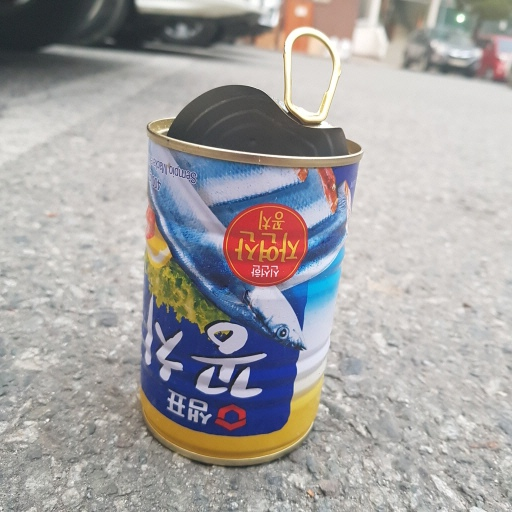Metal_1: (130, 25, 365, 471)
